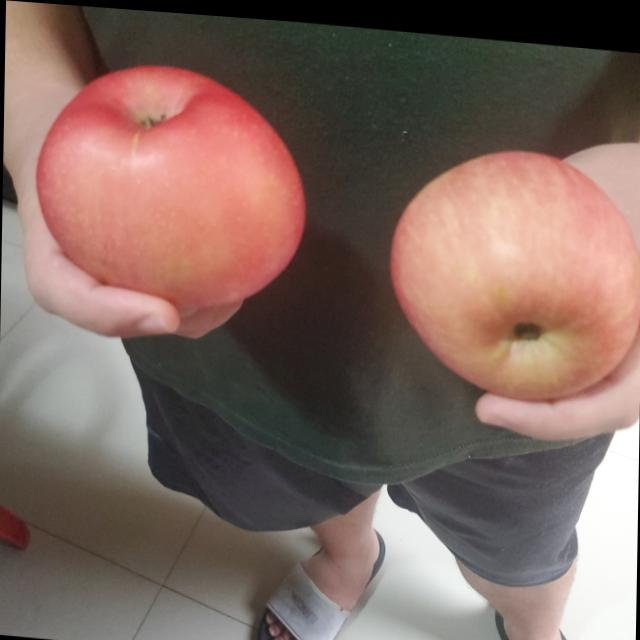apple: (32, 49, 306, 309), (392, 134, 640, 403)
